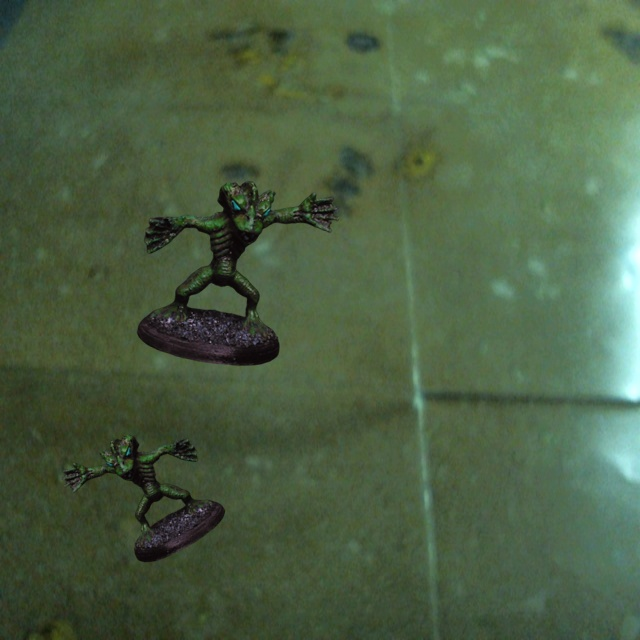pieza_juego: (137, 181, 338, 365), (62, 434, 224, 561)
